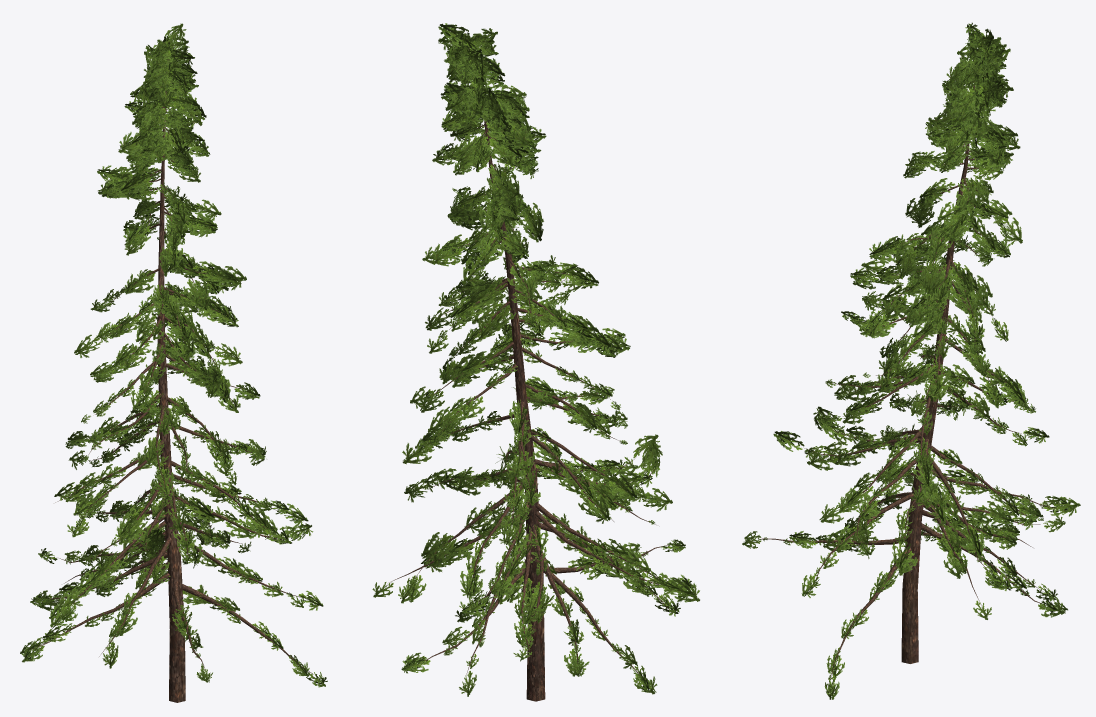
The model's file is tree_pine_small.glb.
The picture shows the model from 3 angles, left to right: view 1: azimuth 30°, elevation 25°; view 2: azimuth 150°, elevation 25°; view 3: azimuth 270°, elevation 25°; orthographic projection. The views are drawn at different scales.
Parts seen in each view (by area): view 1: Leaves, Branches; view 2: Leaves, Branches; view 3: Leaves, Branches.
Part boxes in pixels (box(x1,y1,x2,y2)): Leaves: box(20, 23, 327, 687); Branches: box(29, 59, 315, 702); Leaves: box(372, 23, 699, 696); Branches: box(389, 48, 672, 701); Leaves: box(742, 22, 1080, 699); Branches: box(759, 38, 1057, 679).
Size of the model in its own units: 4.02 by 9 by 4.27.
Materials: 2 (2 with a texture image).
